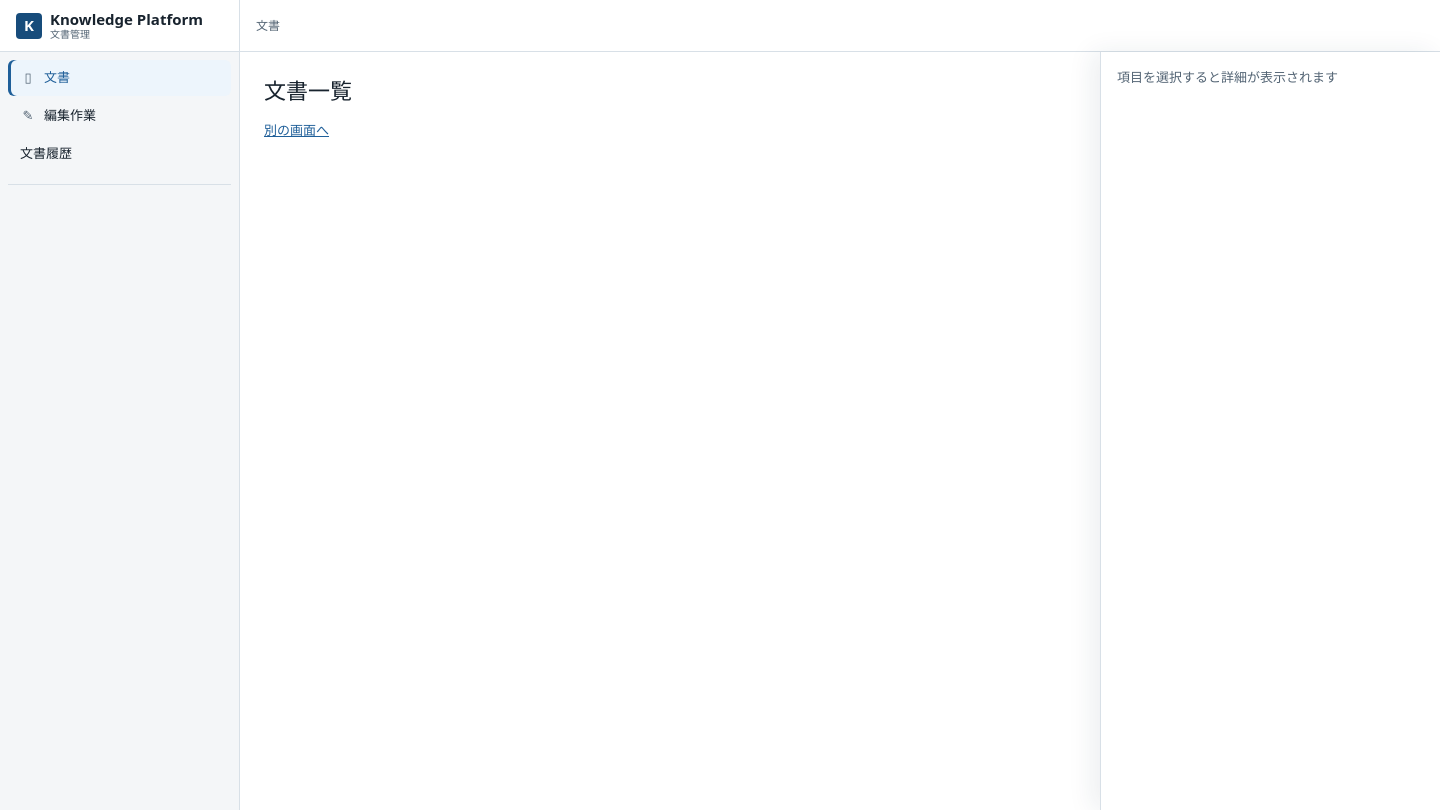
Test: 文書だけのserver（Work APIが404）では、今までどおり文書のメニューだけを出し、取り直さない
Expected: the link with aria-label "文書管理ホーム" is shown, [0,0,240,51]
What coordinates should you click on to do the following:
click the link "別の画面へ"
I would click on:
 (296, 130)
Its box is [264,121,329,139].
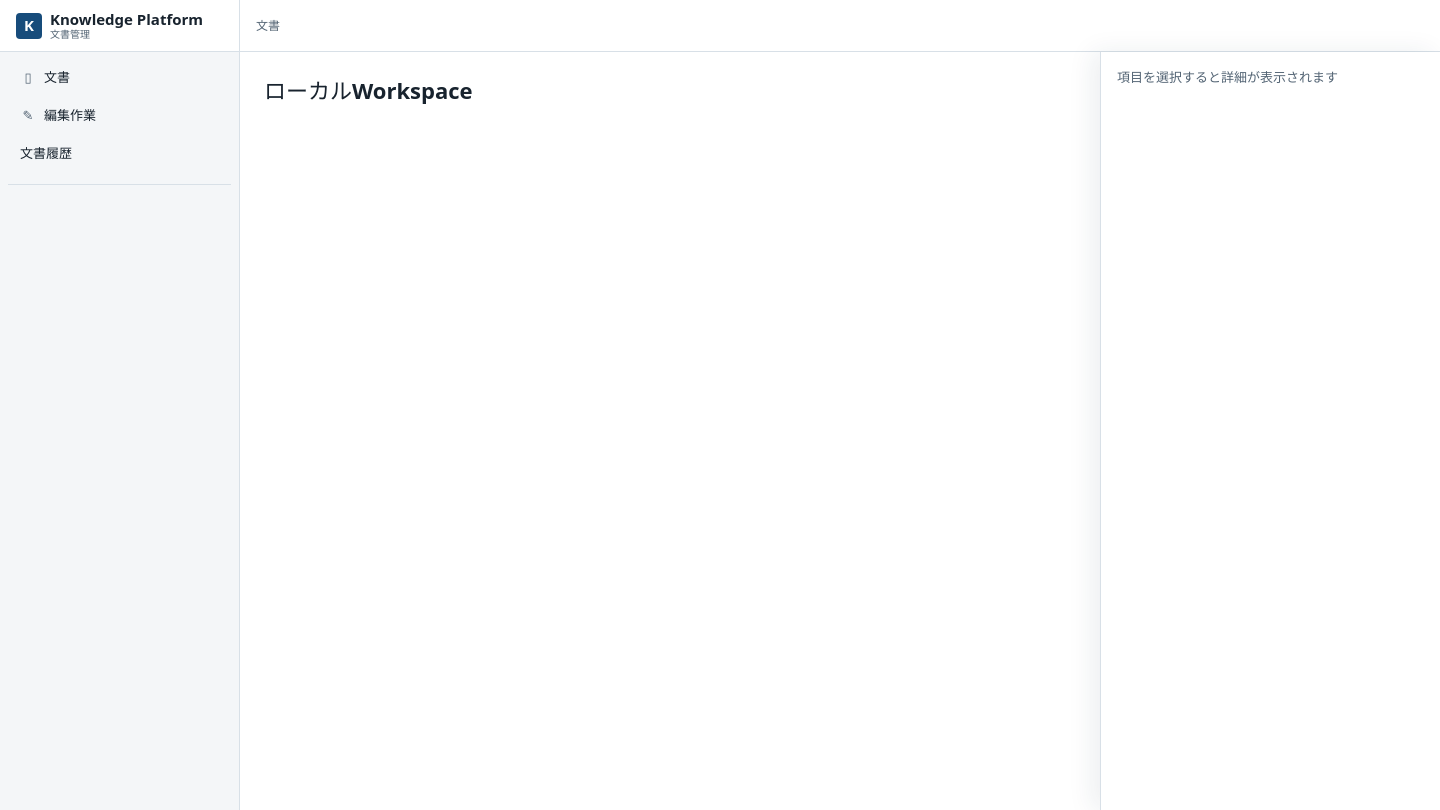
Expected: the heading "ローカルWorkspace" is shown, [264,75,472,105]
